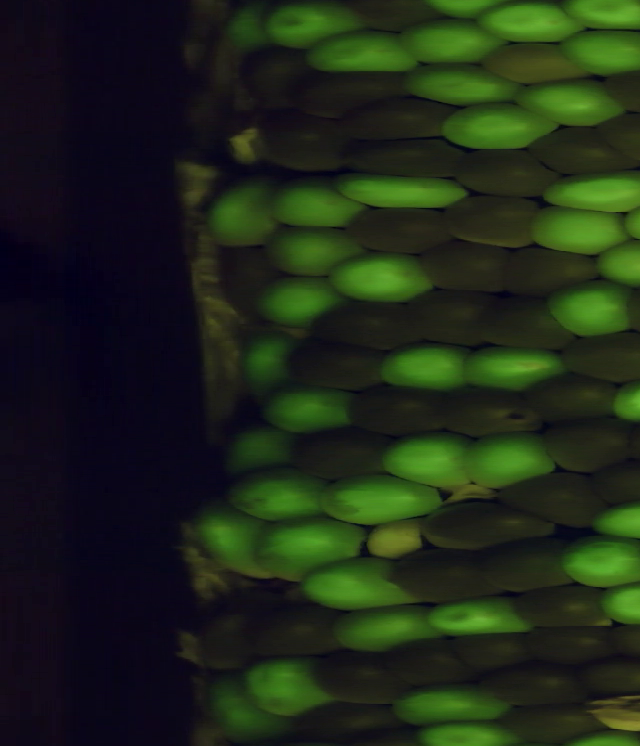fluorescent: (246, 515, 372, 586), (185, 499, 278, 590), (293, 554, 428, 613), (322, 247, 445, 308), (328, 165, 475, 216), (220, 462, 340, 524), (317, 468, 446, 525), (236, 653, 341, 723), (434, 99, 567, 154), (201, 669, 300, 742), (505, 72, 627, 130), (258, 172, 375, 232), (388, 678, 520, 731), (540, 274, 638, 343), (401, 59, 531, 110), (301, 24, 423, 78), (377, 427, 478, 492), (523, 201, 636, 259), (392, 16, 514, 69), (258, 222, 367, 281), (235, 325, 308, 413), (327, 601, 439, 658), (198, 177, 285, 249), (461, 429, 562, 490), (455, 340, 571, 393), (247, 273, 350, 331), (376, 338, 476, 397), (253, 382, 363, 435), (256, 1, 365, 54), (472, 4, 590, 49), (536, 168, 640, 219), (556, 529, 640, 591), (422, 594, 534, 639), (219, 422, 303, 480), (558, 24, 640, 79), (361, 513, 428, 564), (406, 717, 521, 746), (219, 1, 274, 57), (557, 1, 640, 34), (585, 494, 640, 541), (592, 237, 640, 288), (595, 575, 640, 629), (606, 371, 640, 425)
nonfluorescent: (383, 540, 513, 610), (415, 493, 565, 553), (489, 469, 612, 533), (304, 647, 419, 709), (475, 532, 583, 597), (290, 66, 419, 120), (449, 143, 562, 204), (335, 92, 462, 146), (245, 114, 356, 175), (302, 298, 427, 352), (335, 381, 451, 439), (286, 425, 396, 486), (521, 121, 640, 177), (342, 133, 470, 185), (242, 599, 351, 660), (336, 204, 458, 258), (439, 193, 545, 255), (472, 293, 580, 353), (208, 239, 286, 322), (415, 237, 524, 296), (282, 333, 390, 392), (438, 383, 550, 439), (372, 633, 482, 689), (472, 659, 595, 709), (475, 36, 589, 89), (497, 245, 604, 300), (235, 41, 320, 110), (521, 372, 624, 427), (537, 414, 635, 471), (403, 286, 491, 349), (493, 700, 613, 746), (555, 326, 640, 386), (519, 623, 623, 670), (168, 76, 244, 140), (189, 609, 263, 673), (511, 581, 609, 629), (444, 629, 542, 674), (288, 696, 413, 729), (588, 456, 640, 508), (591, 110, 640, 165), (578, 654, 640, 697), (601, 63, 640, 117), (607, 619, 640, 668)
